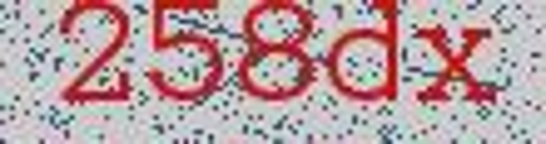2: (46, 1, 142, 120)
5: (142, 1, 230, 129)
8: (234, 1, 325, 126)
d: (322, 1, 412, 128)
x: (412, 6, 503, 122)
